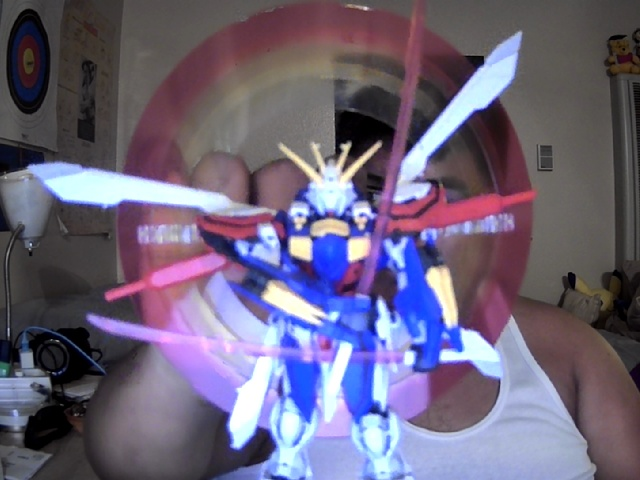God: (28, 4, 537, 480)
